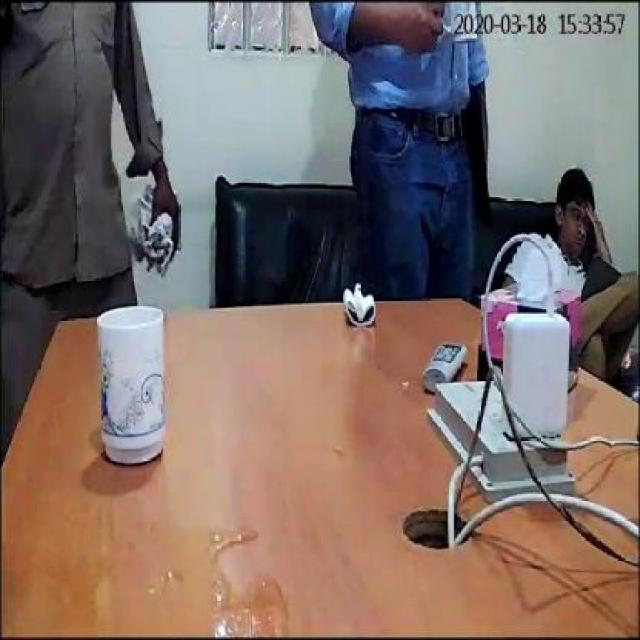spill: (92, 501, 288, 637)
